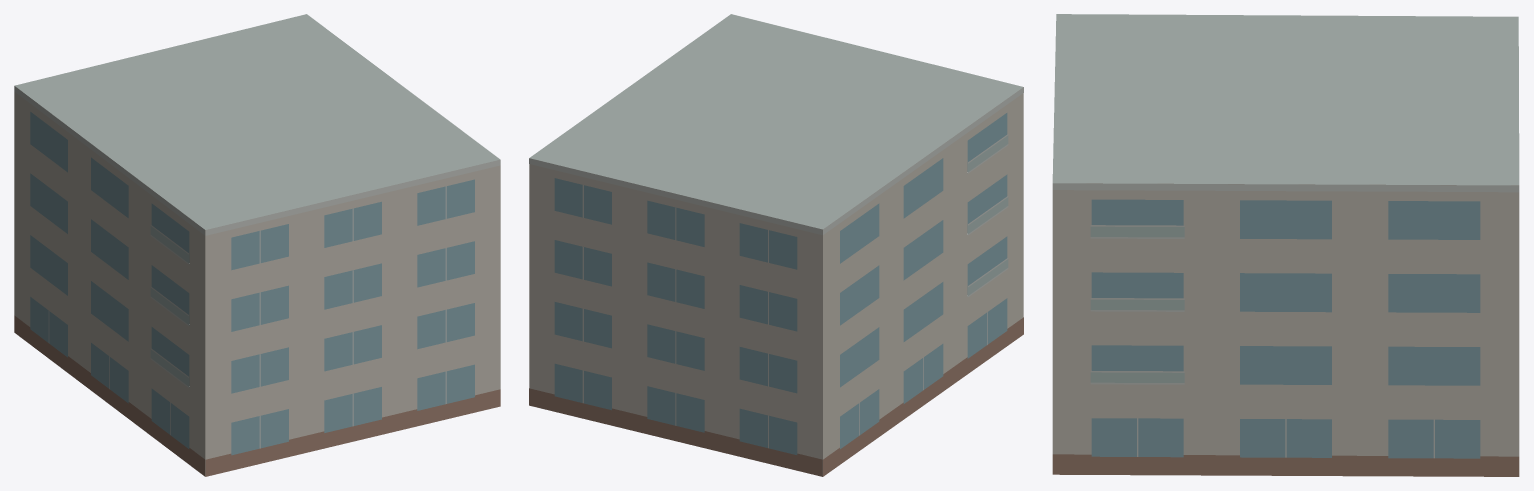
The model's file is survey-upis-32765339.glb.
3 views of the same model, side by side, from view 1: azimuth 30°, elevation 25°; view 2: azimuth 150°, elevation 25°; view 3: azimuth 270°, elevation 25° (orthographic). The views are drawn at different scales.
Visible parts, largest first — view 1: survey-upis-32765339.tmp; view 2: survey-upis-32765339.tmp; view 3: survey-upis-32765339.tmp.
Part boxes in pixels (<box>): survey-upis-32765339.tmp: <box>14,14,500,476</box>; survey-upis-32765339.tmp: <box>529,14,1023,476</box>; survey-upis-32765339.tmp: <box>1052,14,1519,476</box>.
Bounding box in the file's own units: 13.14 × 10.4 × 15.11.
